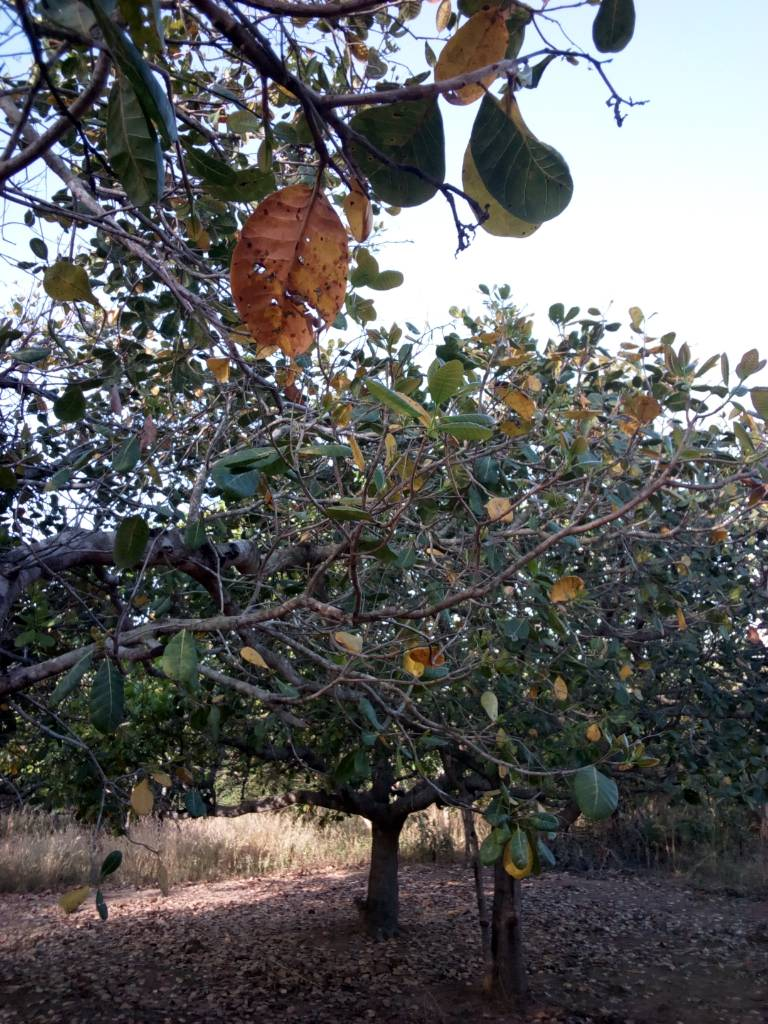Bactériose: (233, 183, 350, 360)
